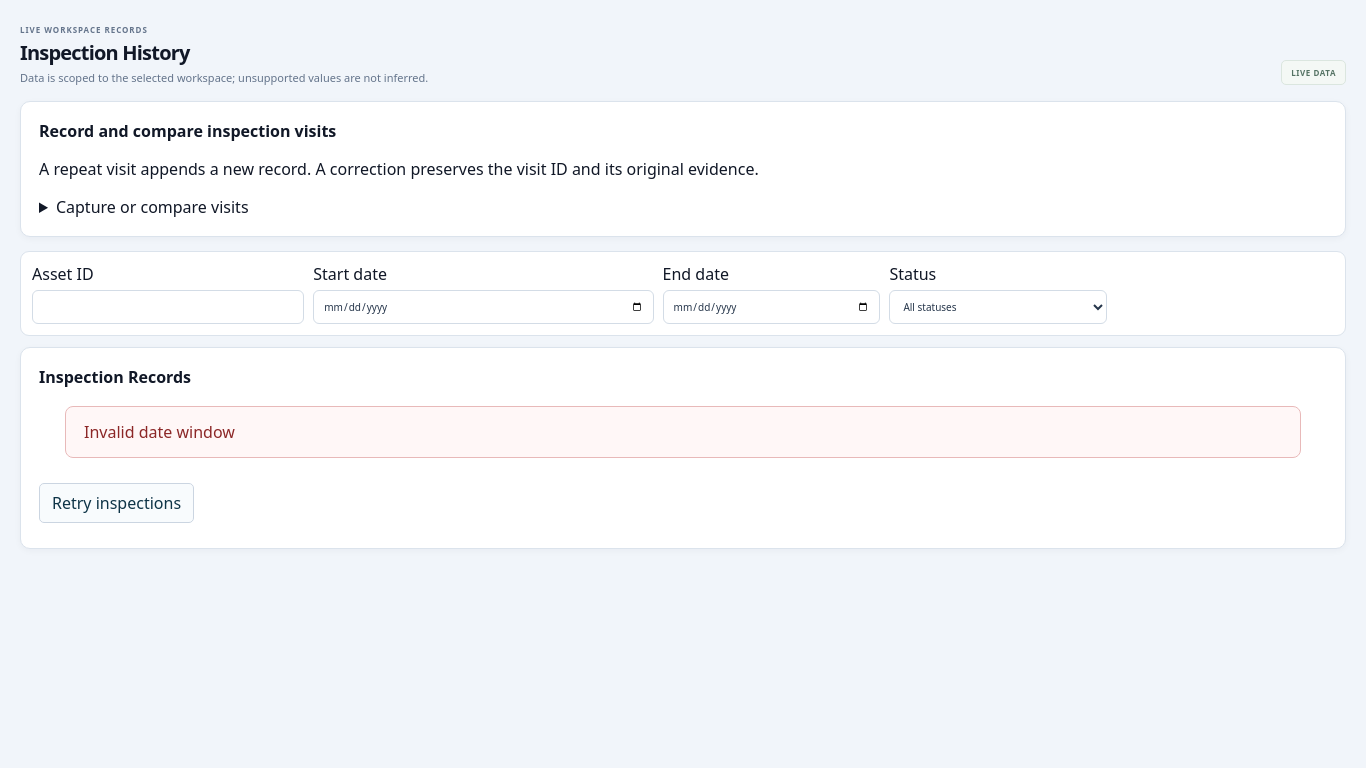
Test case: keeps inspection filters available to correct a failed query
Expected: the message "Invalid date window" is shown, [65, 406, 1301, 458]
Expected: the button "Retry inspections" is shown, [39, 483, 194, 523]
Step 1. Type "2026-09-01" into the date field named "Live inspection start date" → (483, 307), box [313, 290, 654, 324]
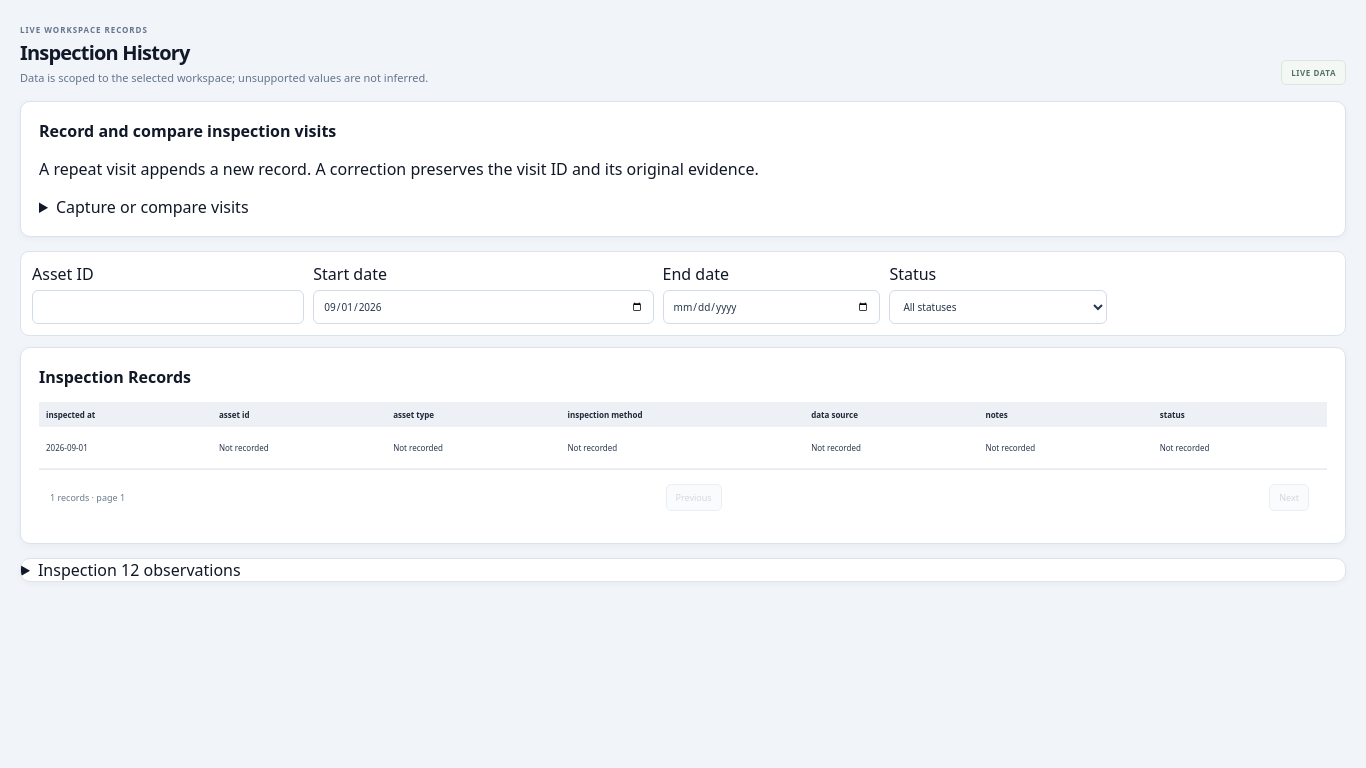
Result: the heading "Inspection 12 observations" is shown at [38, 558, 241, 580]
Result: the message "Invalid date window" is gone
